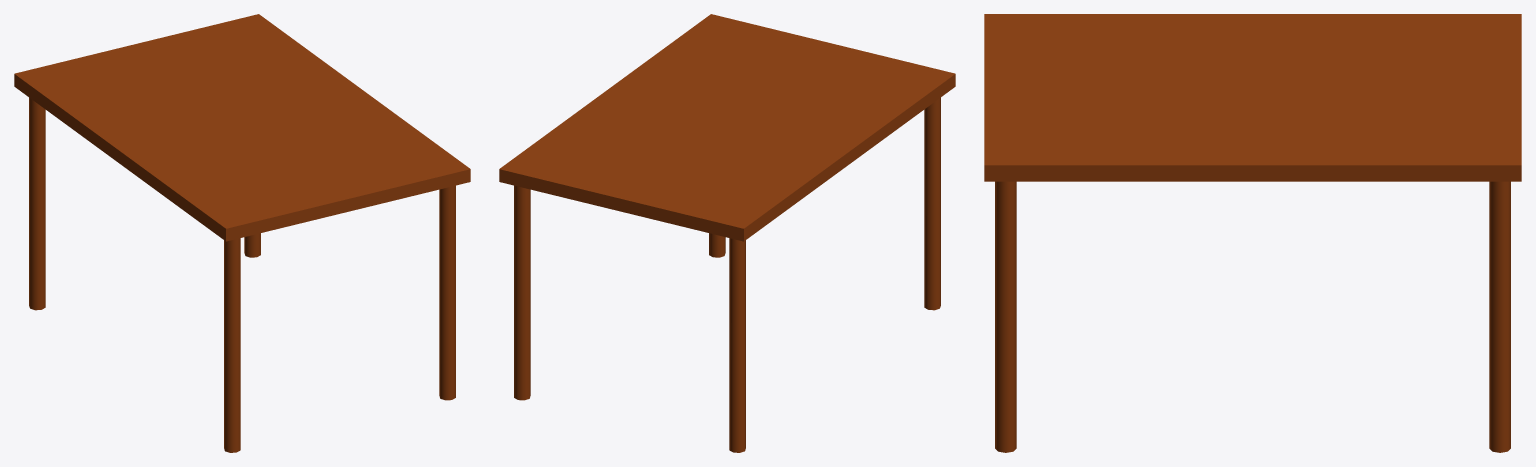
Rendered from dining-table.glb.
The picture shows the model from 3 angles, left to right: view 1: azimuth 30°, elevation 25°; view 2: azimuth 150°, elevation 25°; view 3: azimuth 270°, elevation 25°; orthographic projection. The views are drawn at different scales.
Size of the model in its own units: 1 by 0.9 by 1.5.
